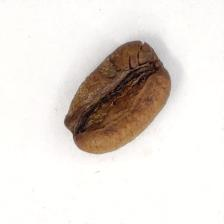NG: (66, 40, 157, 133)
